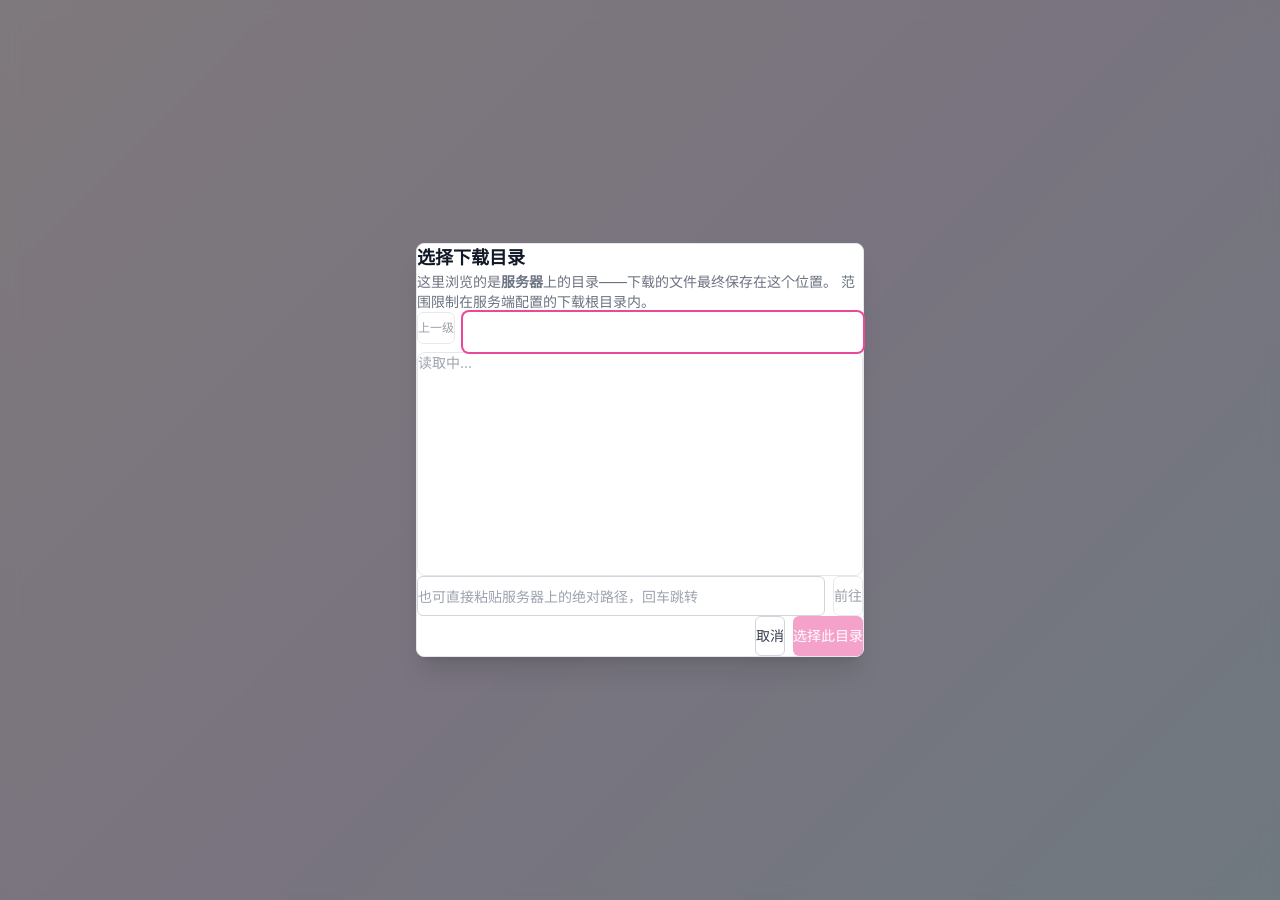
Scenario: DirectoryPickerModal · 服务端目录浏览 › 手填路径回车跳转；定位失败时退回根目录并提示
Type "/nowhere" into the field with test id "dir-picker-manual".
click(621, 596); type("/nowhere")  # box [417, 576, 825, 616]
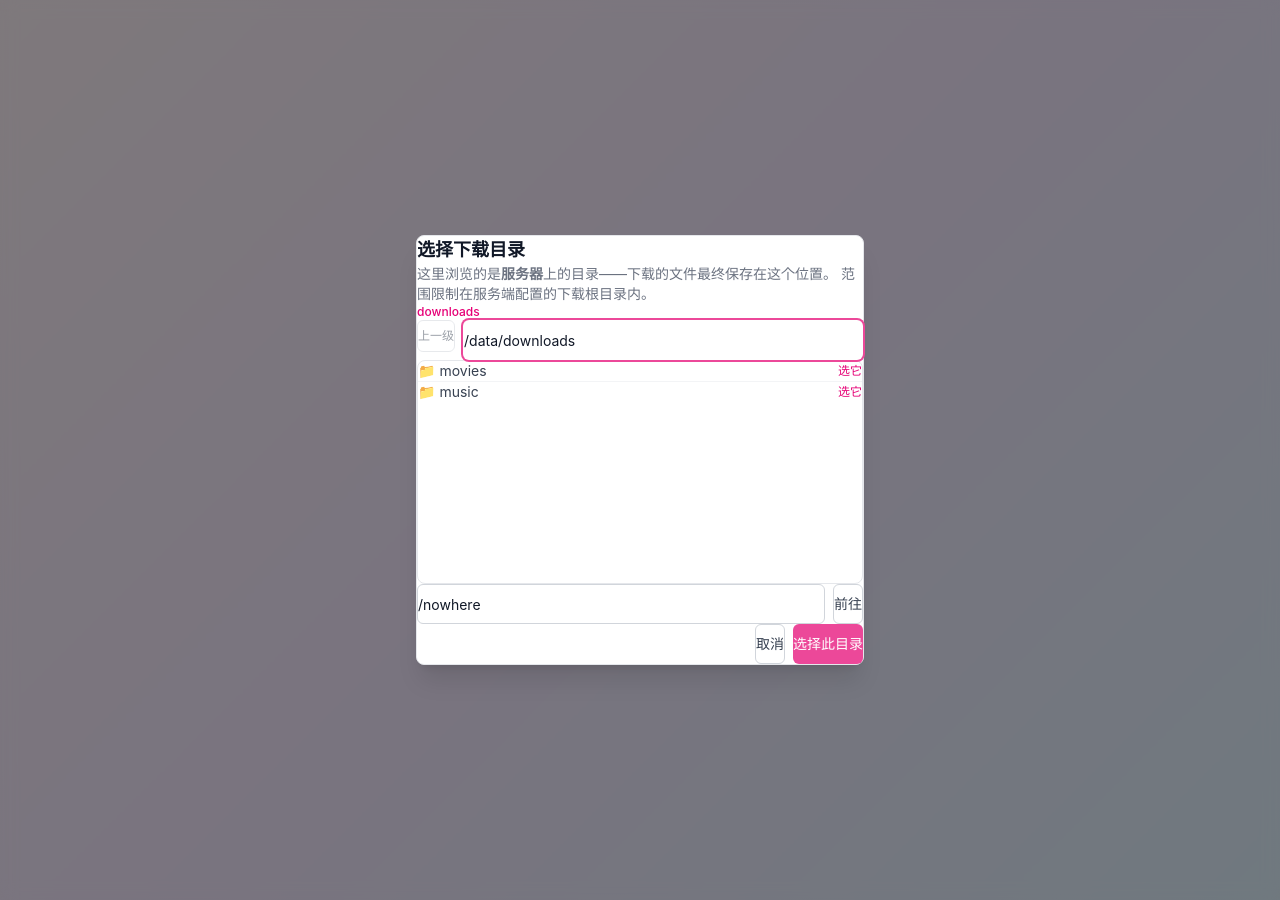
Press Enter in the field with test id "dir-picker-manual", box [417, 584, 825, 624]
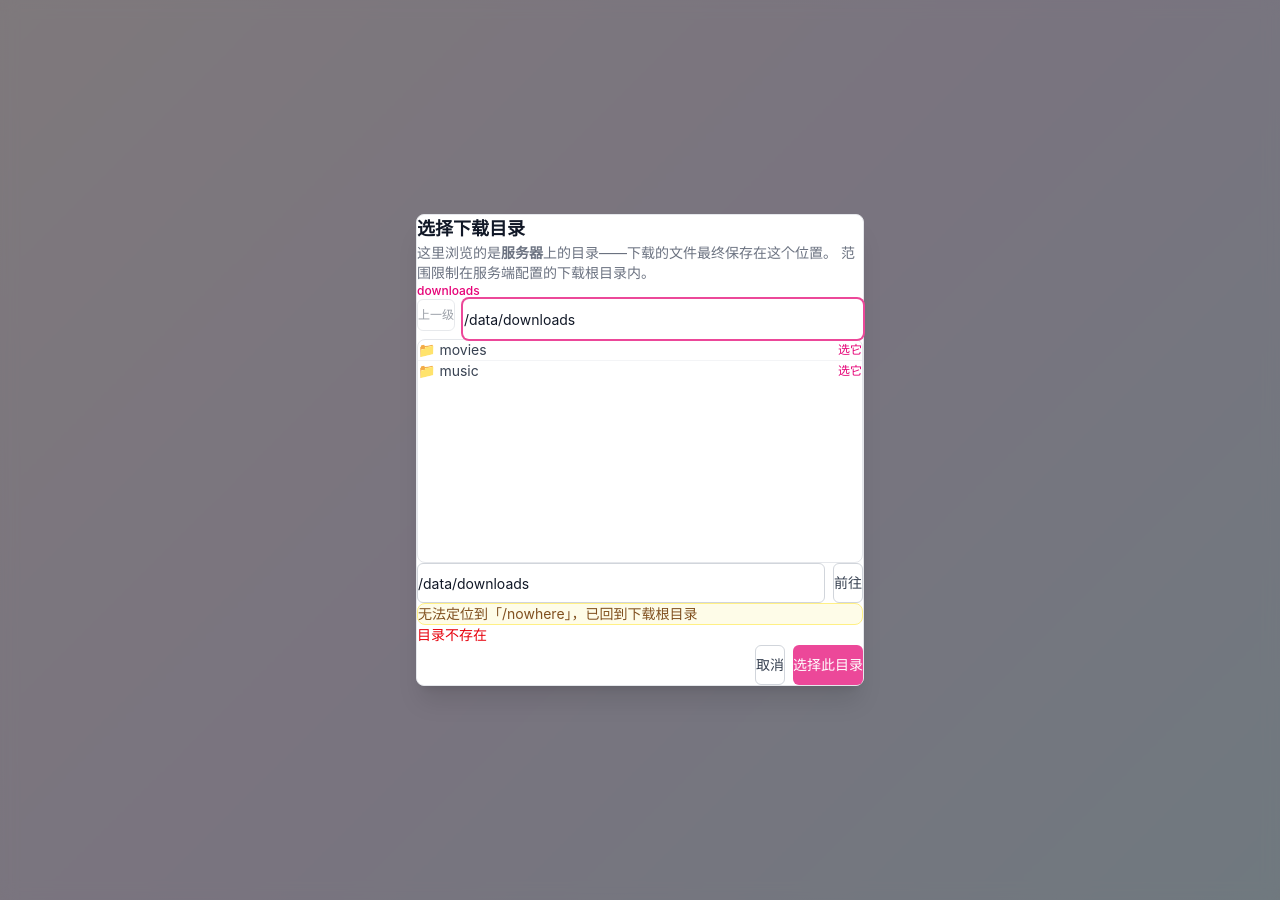
Expected: the field with test id "dir-picker-path" holds "/data/downloads", [463, 299, 863, 339]
Expected: the message "无法定位到「/nowhere」，已回到下载根目录" is shown, [417, 603, 863, 625]
Expected: the text with test id "dir-picker-error" reads "目录不存在", [417, 626, 487, 643]
